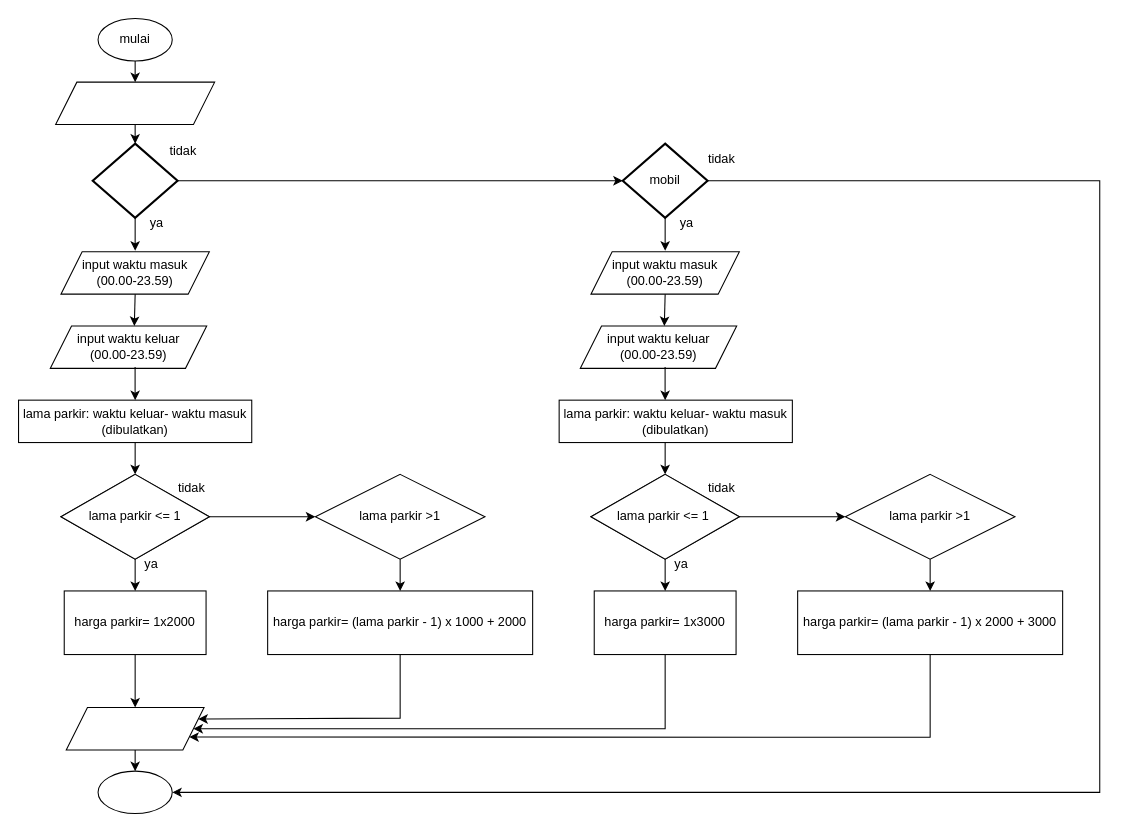
Image size: 1127x832. Some labels were removed from this diagram. Each missing label, with the box of its shape:
input jenis kendaraan: (55, 81, 215, 125)
motor: (91, 142, 178, 218)
print harga parkir: (65, 706, 204, 750)
selesai: (97, 770, 172, 814)
